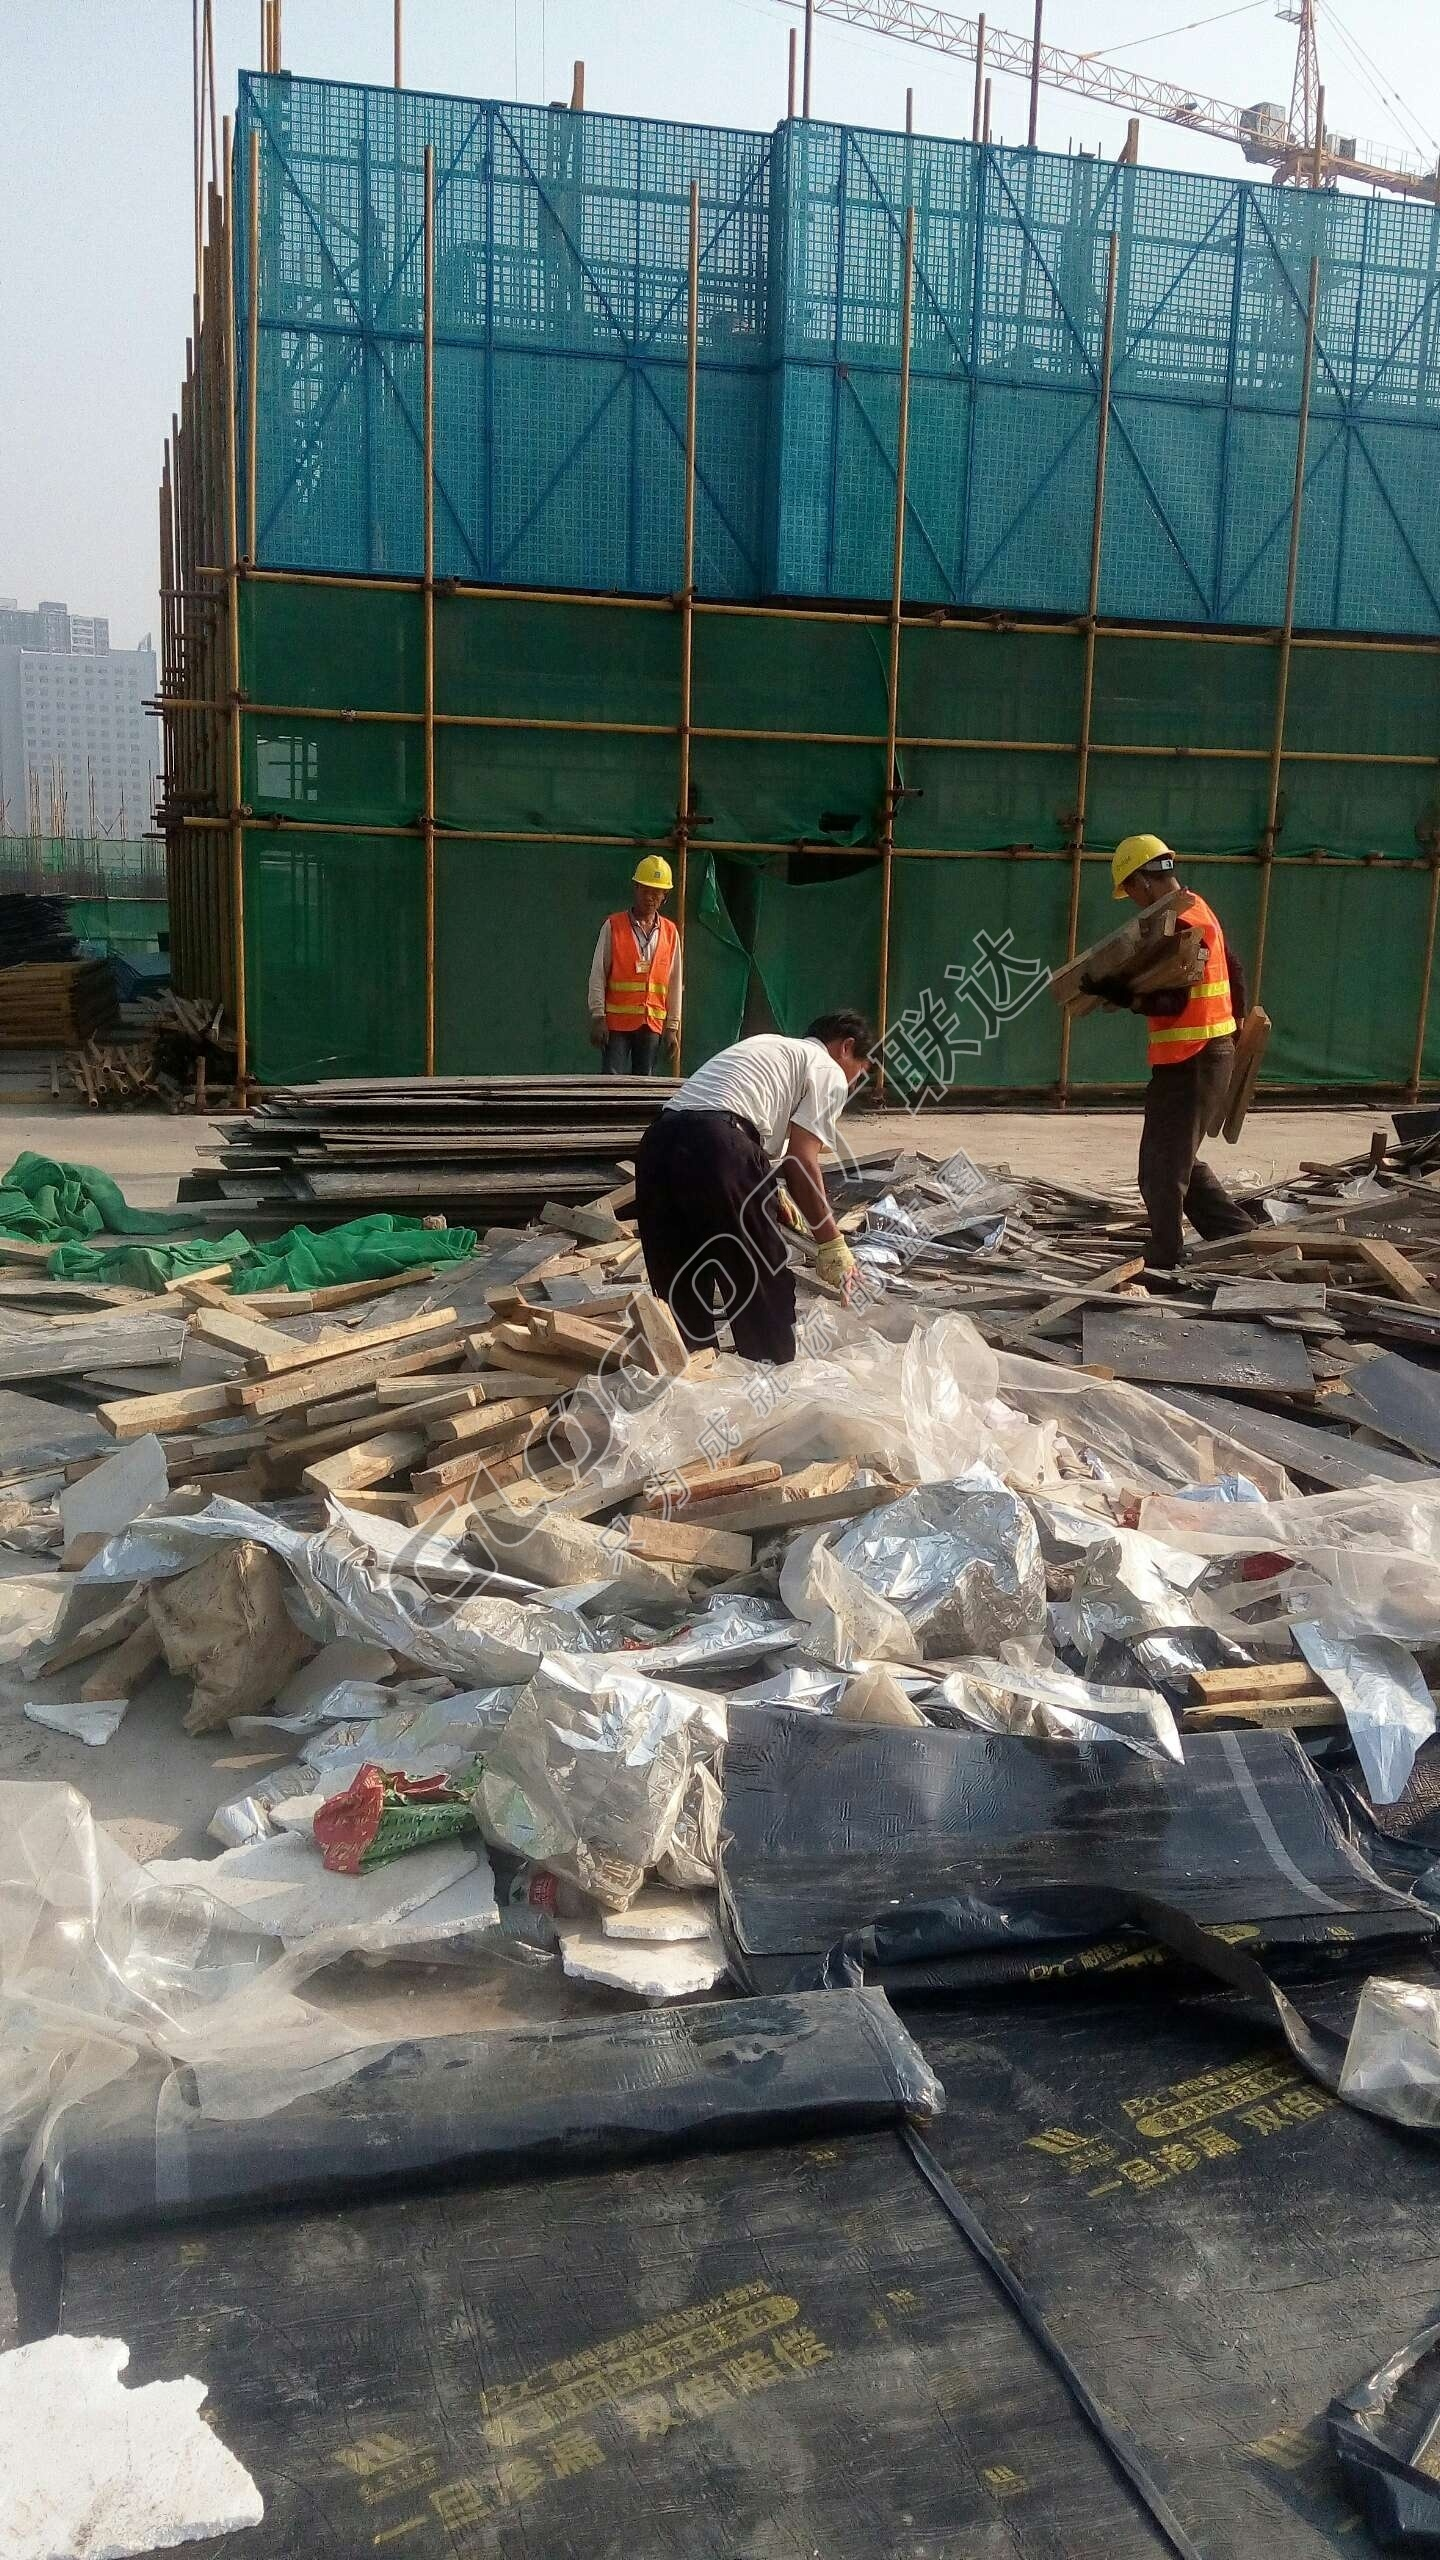none: (807, 993, 879, 1097)
yellow: (1104, 825, 1180, 914), (622, 853, 680, 921)
